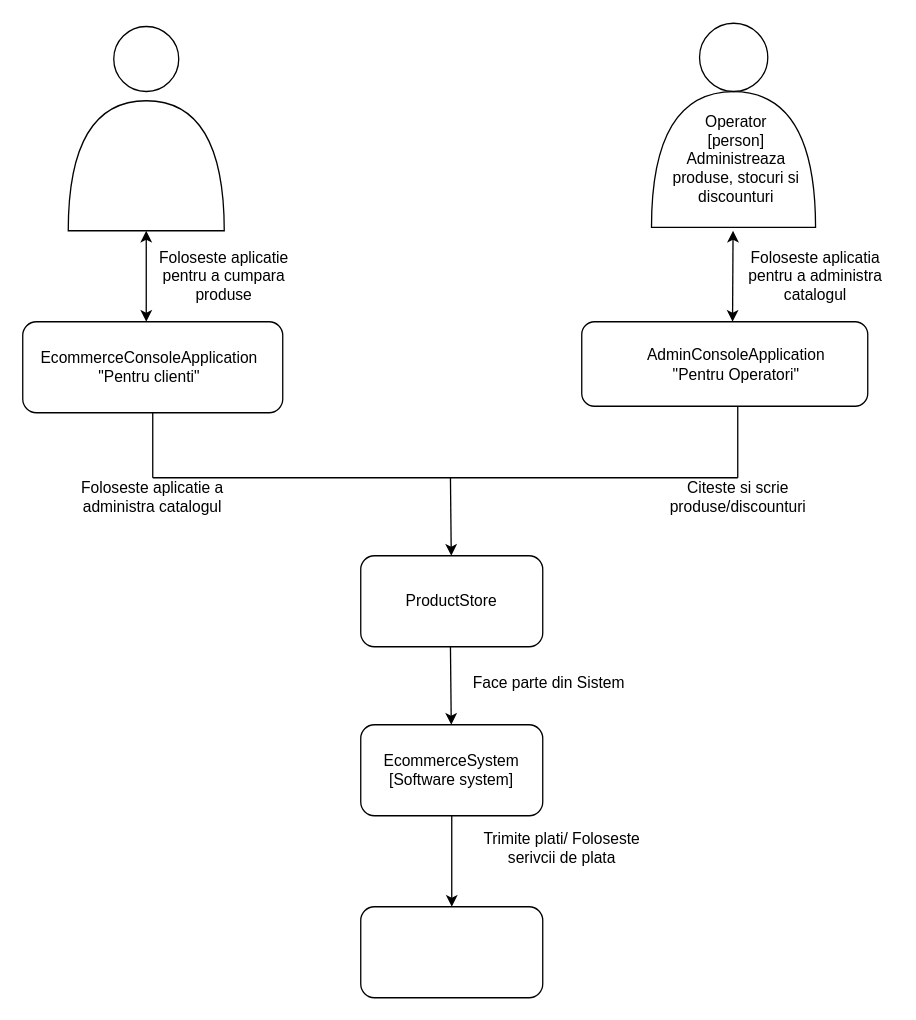
Some shapes in this 916 by 1020 pixel diagram are drawn without their labels. The centre of each missing label's shape, as x and y in pixels:
Client [person] Cumpara produse si plaseaza comenzi: [145,165]
PaymentSystem [Software System]: [451,951]
